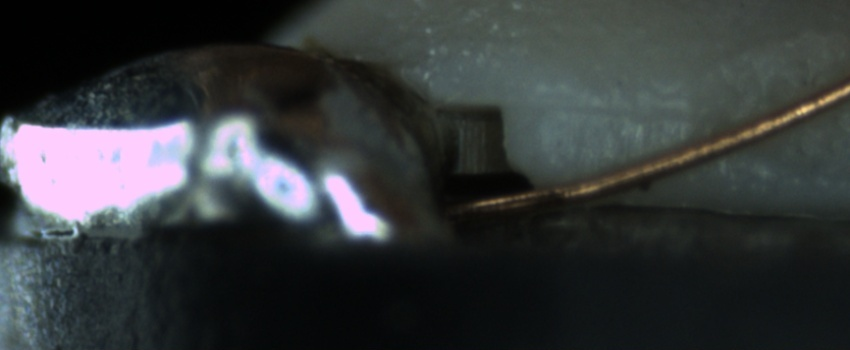DL: (527, 79, 688, 143)
